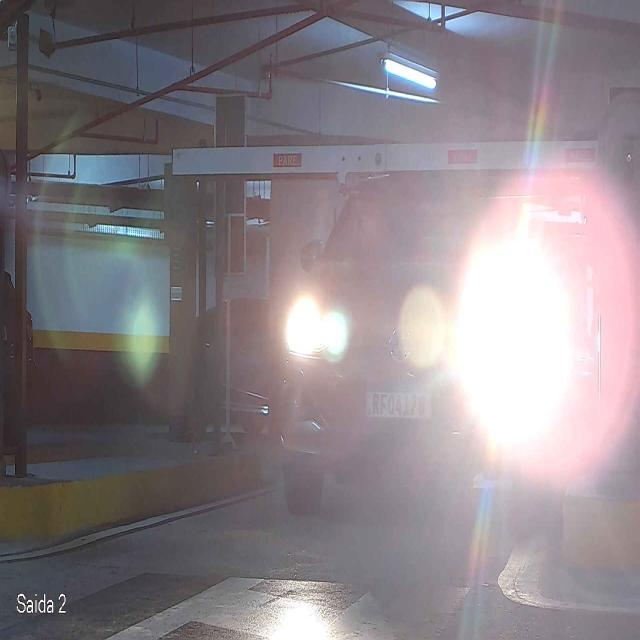mercosul_plate: (364, 382, 437, 422)
